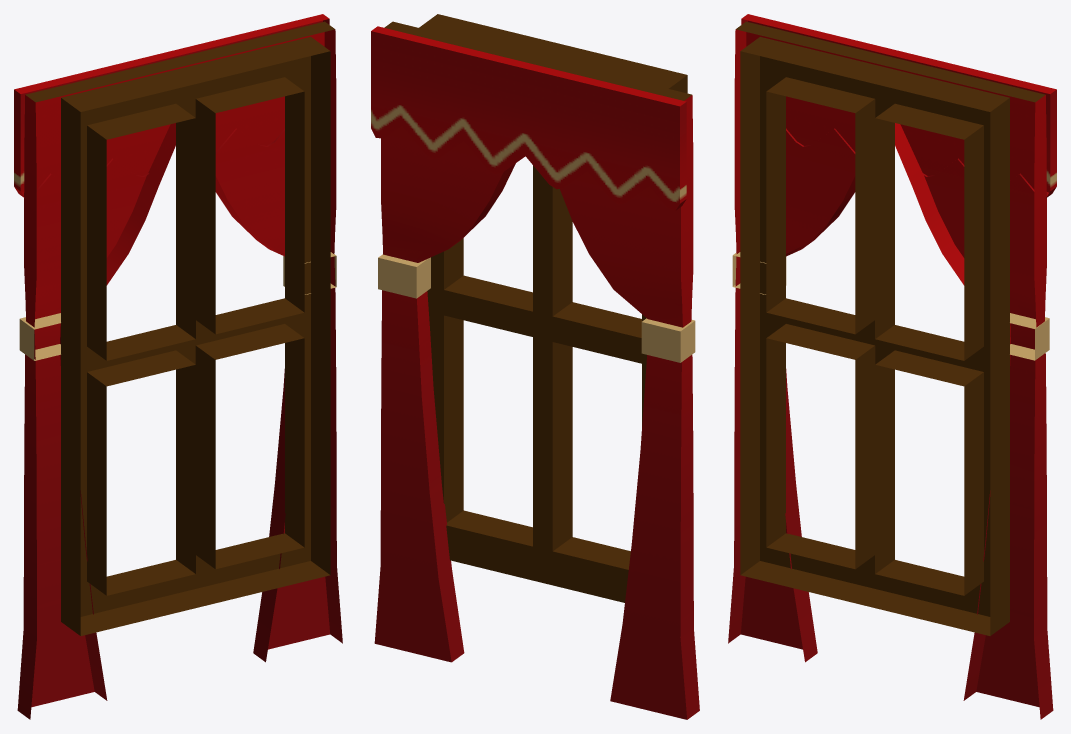
Rendered from window.fbx.
The picture shows the model from 3 angles, left to right: view 1: azimuth 30°, elevation 25°; view 2: azimuth 150°, elevation 25°; view 3: azimuth 330°, elevation 25°; orthographic projection.
Parts seen in each view (by area): view 1: window; view 2: window; view 3: window.
Part boxes in pixels (bbox=[...]): window: bbox=[14, 14, 342, 719]; window: bbox=[371, 14, 699, 719]; window: bbox=[728, 14, 1056, 719].
Bounding box in the file's own units: 216 × 407 × 44.36.
1 material, 1 textured.
